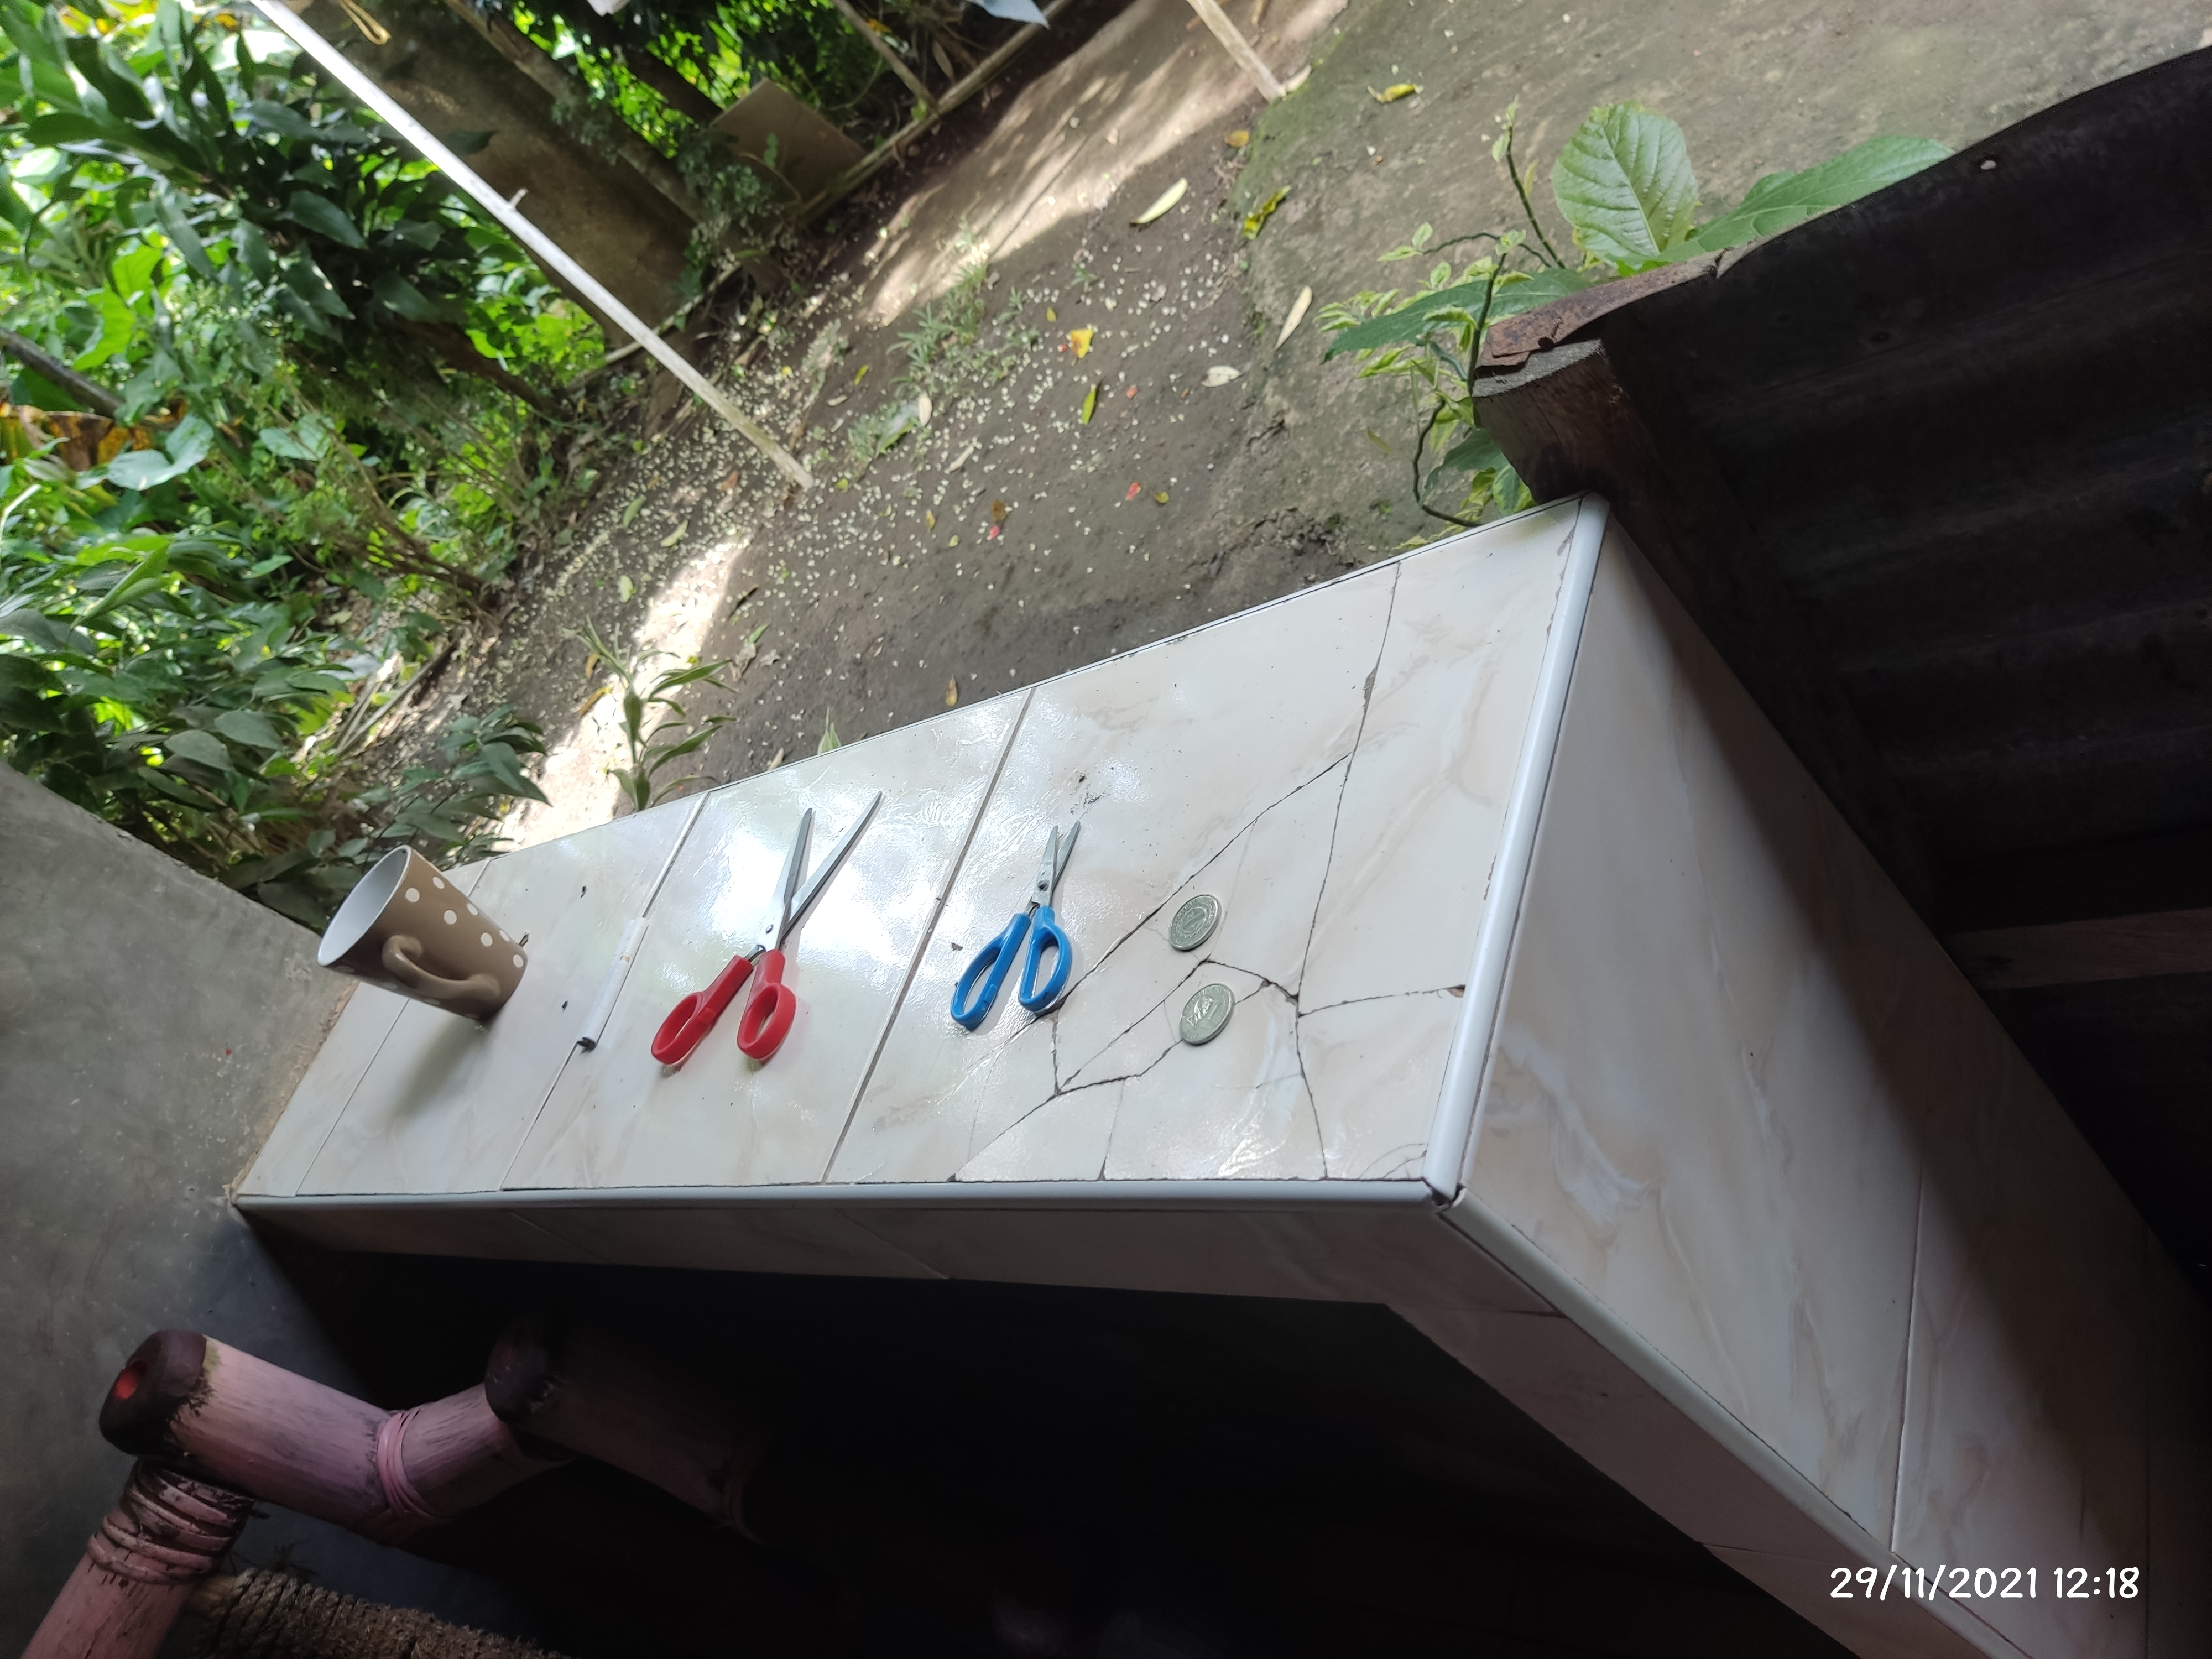scissor: (655, 782, 880, 1060), (968, 824, 1080, 1021)
